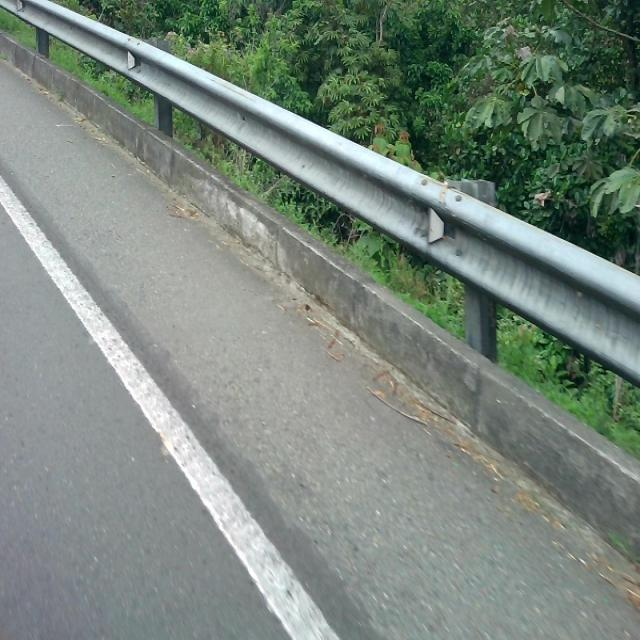DITCH: (1, 53, 638, 638), (1, 78, 638, 638), (1, 82, 638, 638)
